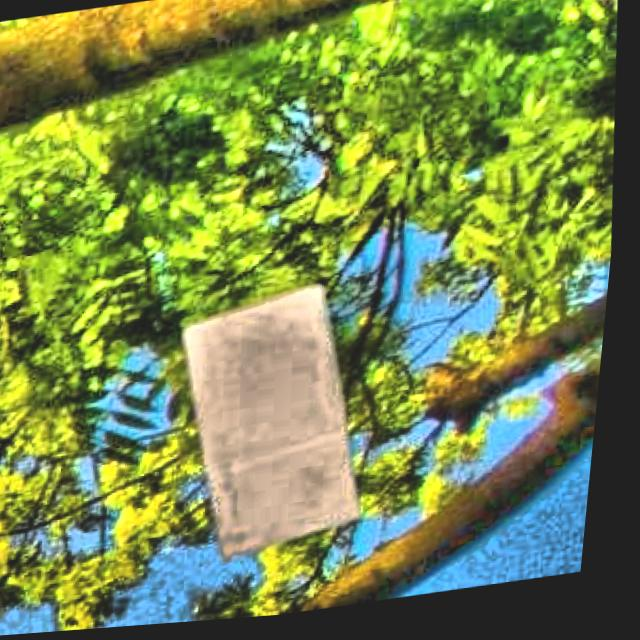Paper-bag: (144, 271, 412, 596)
